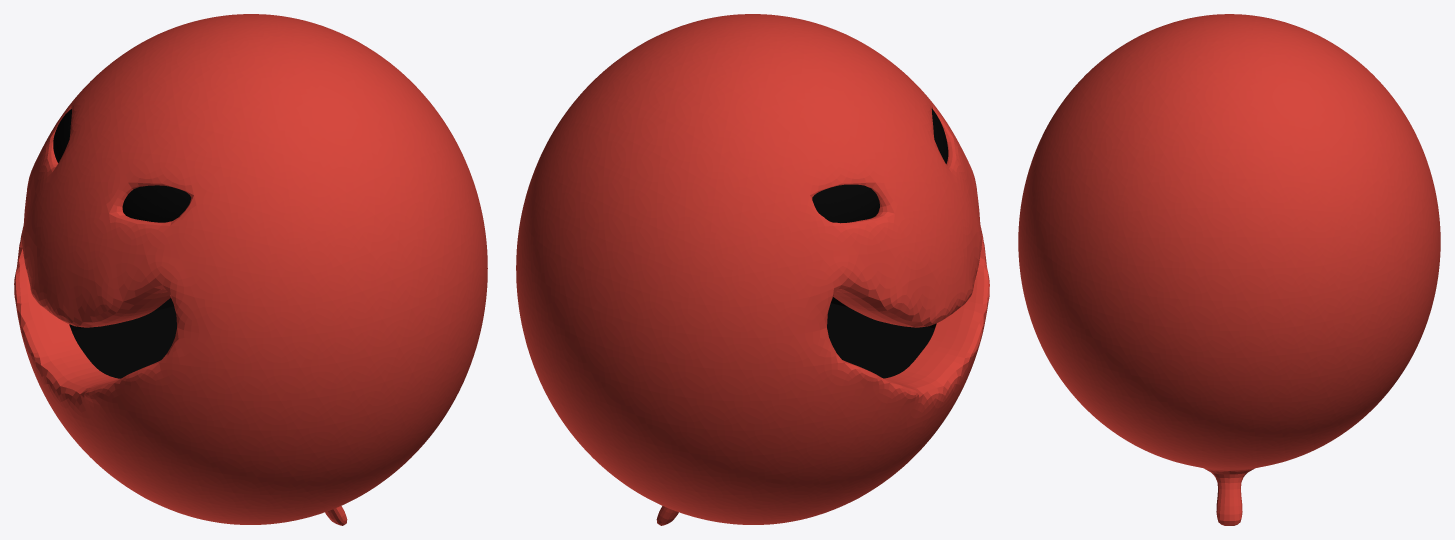
The model's file is Ballon.fbx.
The picture shows the model from 3 angles, left to right: view 1: azimuth 30°, elevation 25°; view 2: azimuth 150°, elevation 25°; view 3: azimuth 270°, elevation 25°; orthographic projection. The views are drawn at different scales.
Parts seen in each view (by area): view 1: Icosphere; view 2: Icosphere; view 3: Icosphere.
Boxes of the visible parts, x1=… form: Icosphere: x1=14, y1=14, x2=487, y2=525; Icosphere: x1=516, y1=14, x2=989, y2=525; Icosphere: x1=1018, y1=14, x2=1440, y2=525.
Bounding box in the file's own units: 0.4965 × 0.5914 × 0.4978.
